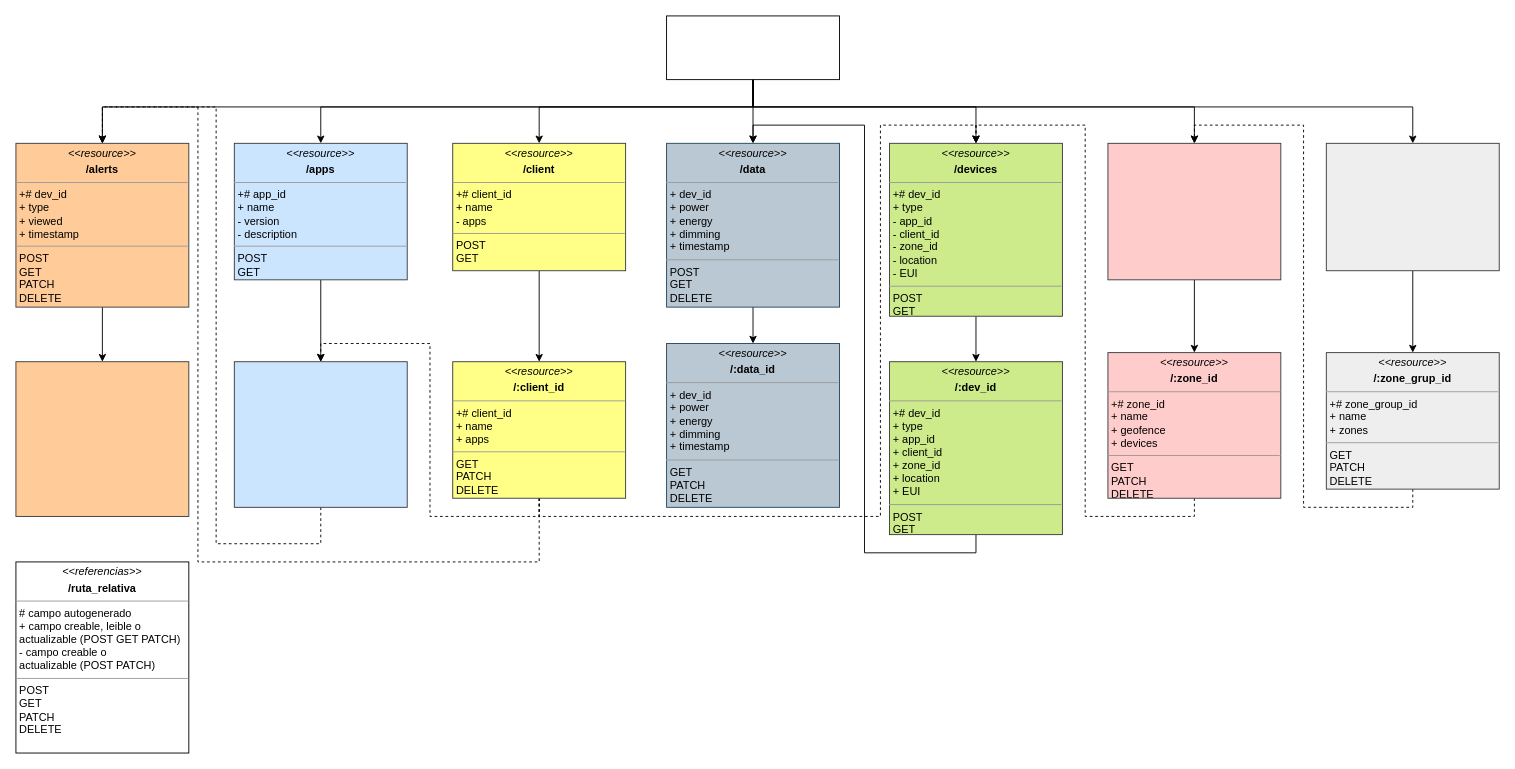
Image size: 1515x769. Some labels were removed from this diagram. Here are the shapes that lost their labels. From the top down, the centre of each, then its label:
point (752, 47): <<API>> localhost:3000 GET
point (1194, 211): <<resource >> /zones +# zone_id + name - geofence - devices POST GET
point (1412, 206): <<resource >> /zone_groups +# zone_group_id + name - zones POST GET
point (102, 438): <<resource >> /:alert_id +# dev_id + type + viewed + timestamp GET PATCH DELETE
point (320, 434): <<resource >> /:app_id +# app_id + name + version + description GET PATCH DELETE
